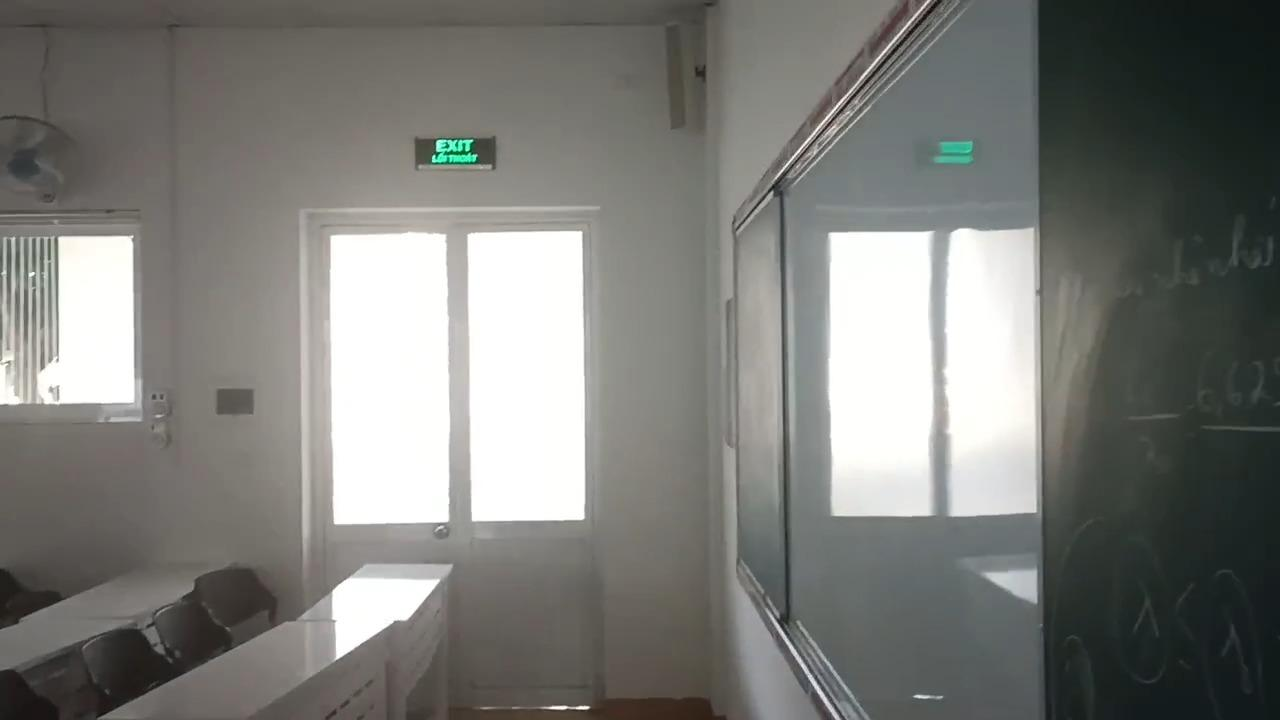board: (734, 3, 1037, 719)
chair: (88, 630, 179, 704), (196, 567, 278, 637), (153, 604, 232, 661), (1, 670, 59, 719), (3, 570, 57, 615)
fan: (0, 113, 87, 207)
table: (102, 622, 387, 719), (300, 564, 448, 717), (21, 566, 237, 618), (0, 617, 131, 670)
